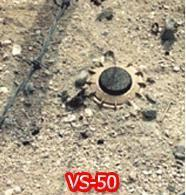pmn: (83, 56, 147, 113)
